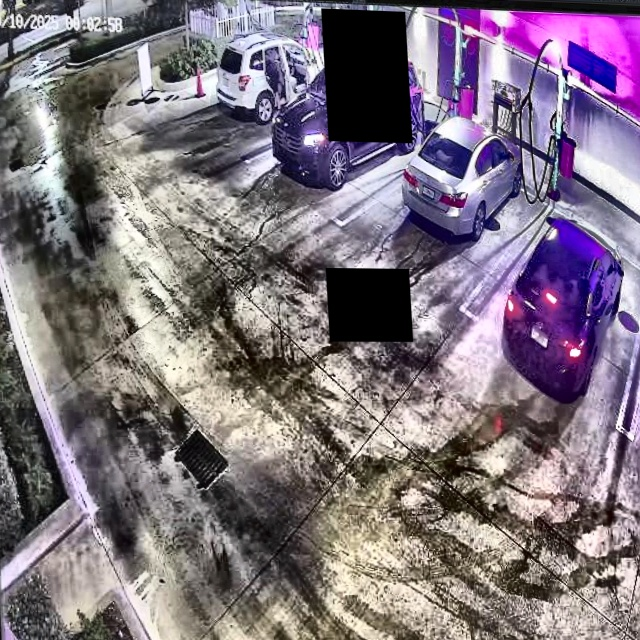Car: (266, 44, 428, 188), (395, 92, 526, 239)
